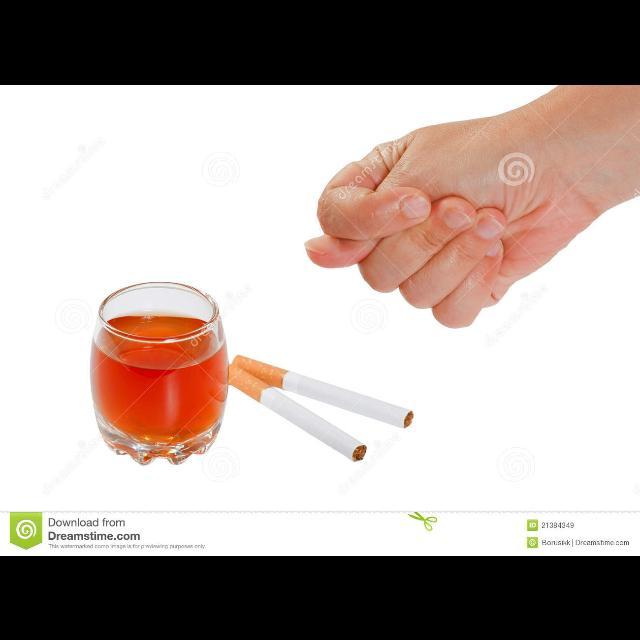rokok: (224, 368, 370, 468), (232, 353, 418, 429)
